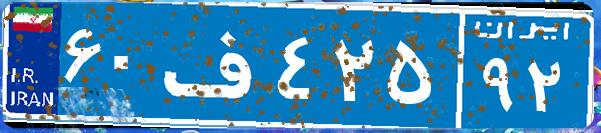0: (110, 28, 158, 105)
2: (330, 28, 385, 110), (525, 38, 570, 115)
4: (273, 28, 330, 110)
5: (385, 28, 445, 110)
6: (57, 26, 110, 107)
9: (475, 38, 525, 113)
ف: (158, 15, 273, 115)
